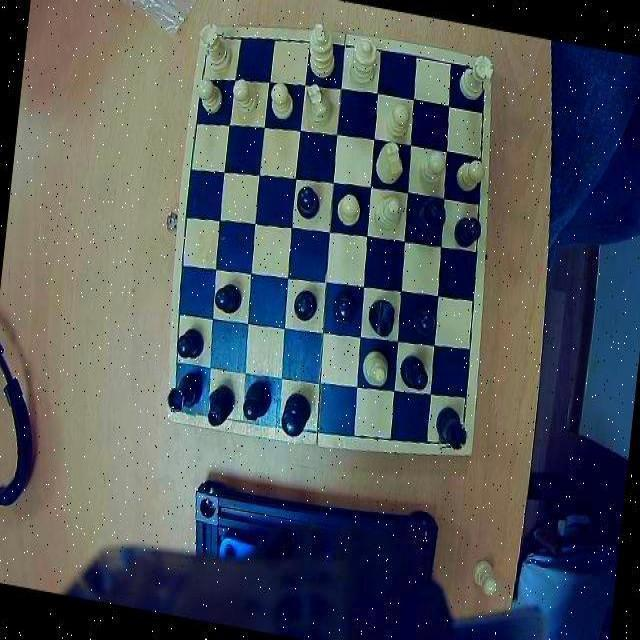chess-table-corners: (438, 419, 472, 457), (167, 390, 200, 422), (464, 60, 494, 92), (199, 26, 227, 58)
